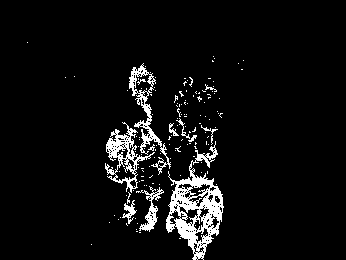person: (182, 154, 224, 260), (98, 123, 137, 227), (135, 124, 167, 230), (127, 60, 164, 125), (201, 78, 228, 147), (175, 74, 201, 139)
